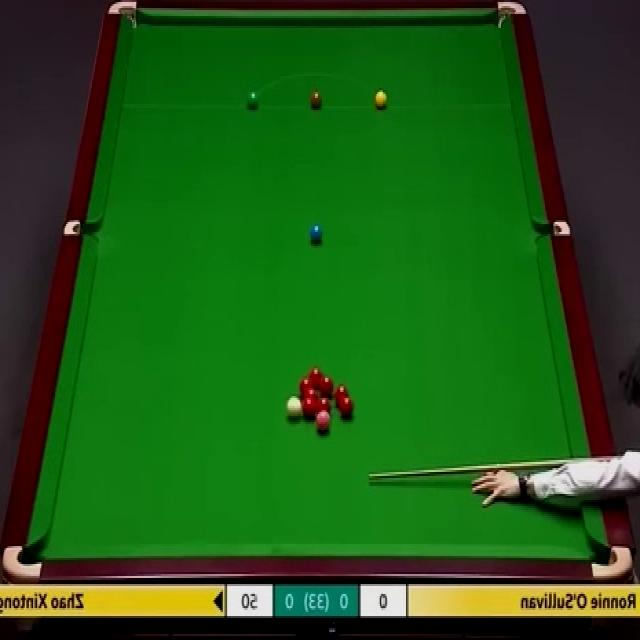blue-ball: (309, 221, 324, 246)
brown-ball: (309, 91, 323, 111)
green-ball: (244, 90, 258, 112)
pink-ball: (314, 408, 332, 434)
red-ball: (336, 393, 352, 416), (308, 366, 324, 386), (319, 375, 334, 396), (334, 384, 348, 405), (315, 398, 331, 416), (303, 398, 315, 419), (298, 377, 314, 392), (302, 388, 318, 398)
white-ball: (286, 394, 304, 423)
yellow-ball: (374, 90, 388, 110)
